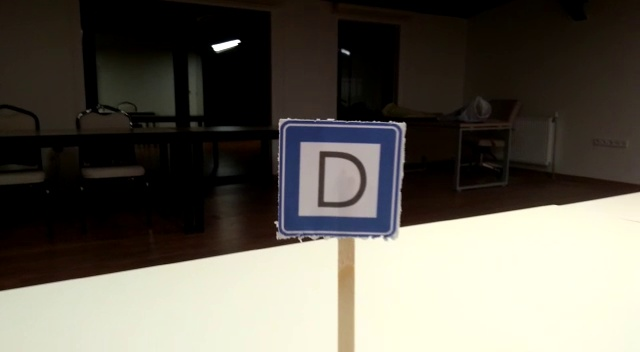durak: (279, 124, 402, 239)
